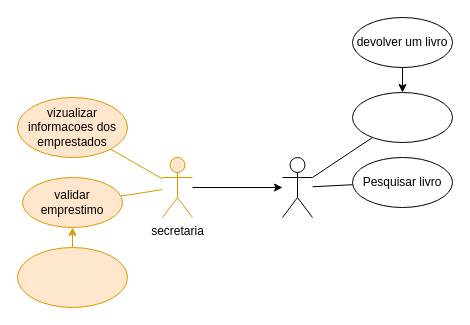
This 470x325 diagram has some shape labels left out. Each missing label, with the centre of its shape:
Funcionario: the point at 297,187
pegar um livro: the point at 402,117
validar devolucao: the point at 72,277
